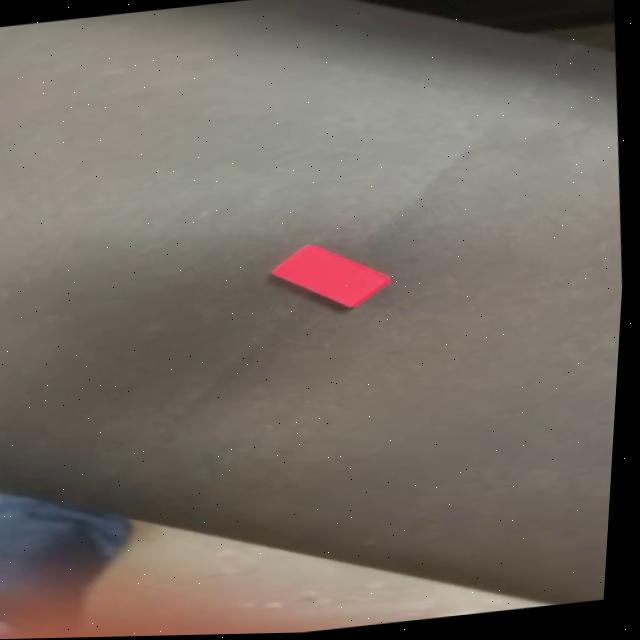red block: (263, 235, 396, 318)
